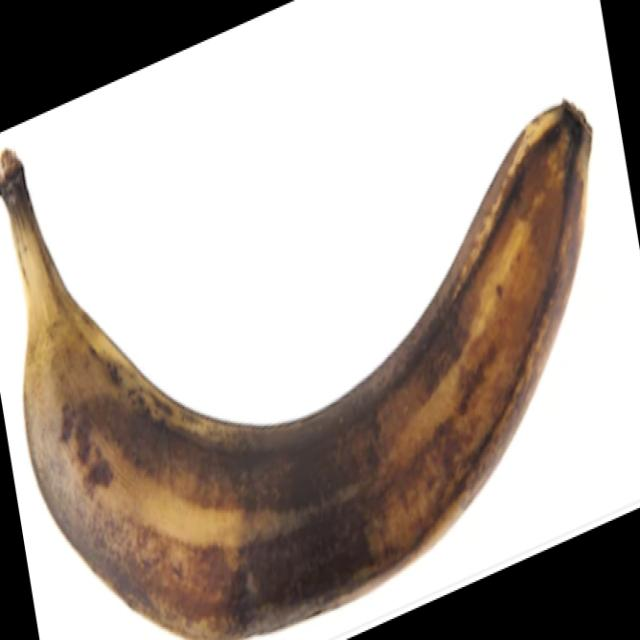Rotten: (0, 94, 593, 640)
